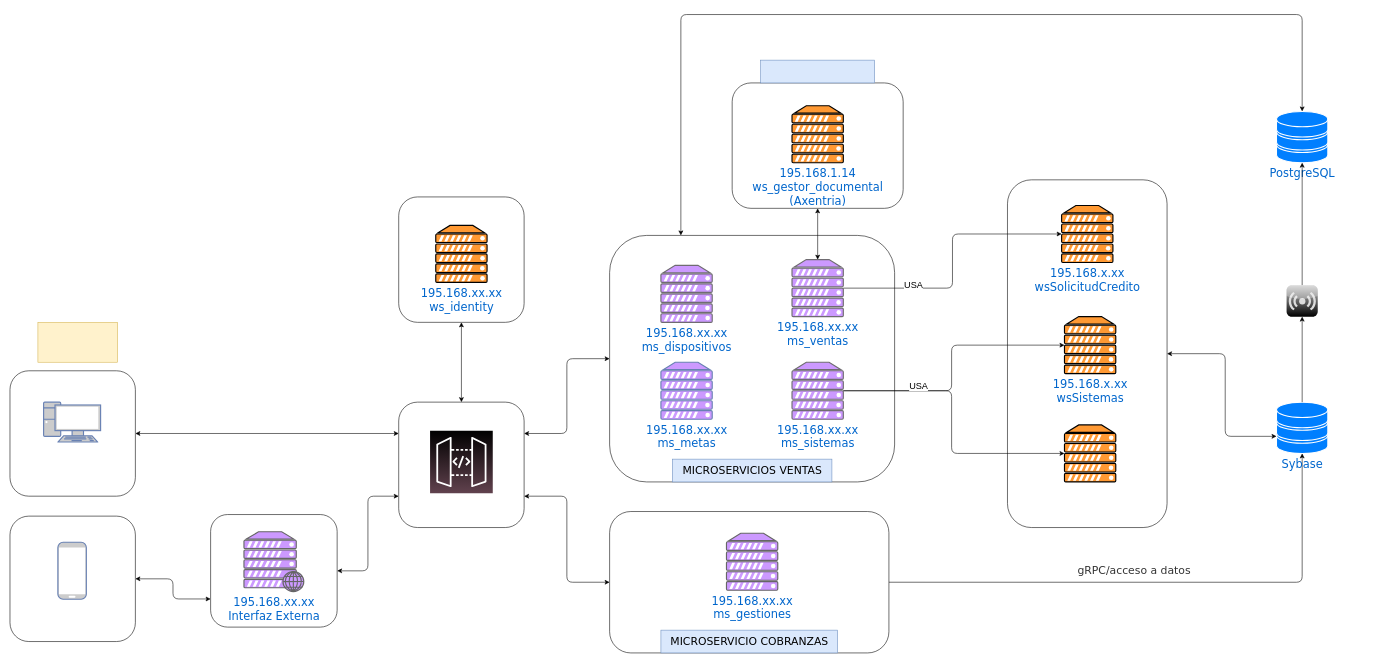
Some shapes in this 1381 by 663 pixel diagram are drawn without their labels. Each missing label, with the centre of its shape:
195.168.x.xx wsPersonas: (x=1090, y=453)
195.168.xx.xx API GATEWAY: (x=461, y=461)
FRONT END: (x=77, y=342)
Gestión App Usuario móvil: (x=72, y=570)
Gestión Web: (x=72, y=421)
Gestor documental: (x=817, y=71)
ms_sincronizador/ SyncToy/ Apache Kafka: (x=1302, y=300)
